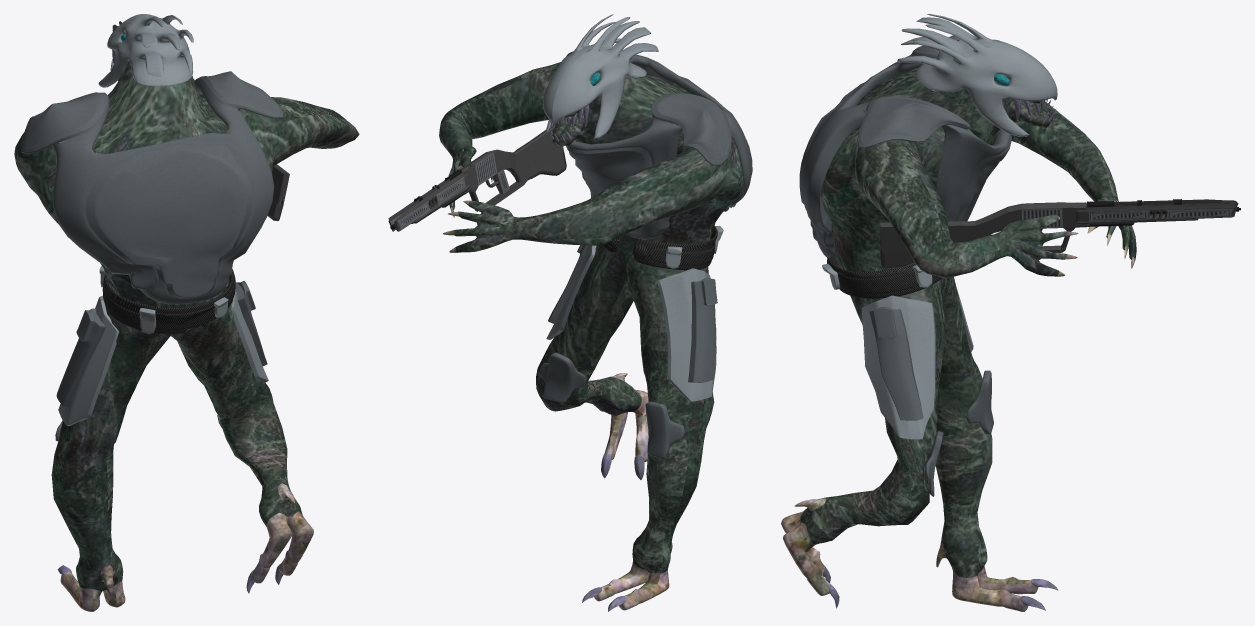
File: AndarEscopeta.0015.obj
3 renders of one model, left to right at view 1: azimuth 30°, elevation 25°; view 2: azimuth 150°, elevation 25°; view 3: azimuth 270°, elevation 25°, orthographic. The views are drawn at different scales.
Visible parts, largest first — view 1: polySurface164, escopeta:Cylinder001 polySurface164; view 2: polySurface164, escopeta:Cylinder001 polySurface164; view 3: polySurface164, escopeta:Cylinder001 polySurface164.
Part boxes in pixels (box(x1,y1,x2,y2)): polySurface164: box(14, 14, 359, 611); escopeta:Cylinder001 polySurface164: box(112, 21, 289, 221); polySurface164: box(439, 14, 752, 611); escopeta:Cylinder001 polySurface164: box(388, 124, 566, 231); polySurface164: box(781, 14, 1136, 611); escopeta:Cylinder001 polySurface164: box(880, 199, 1240, 268).
Size of the model in its own units: 1.42 by 2.52 by 1.74.
Materials: 10 (8 with a texture image).
